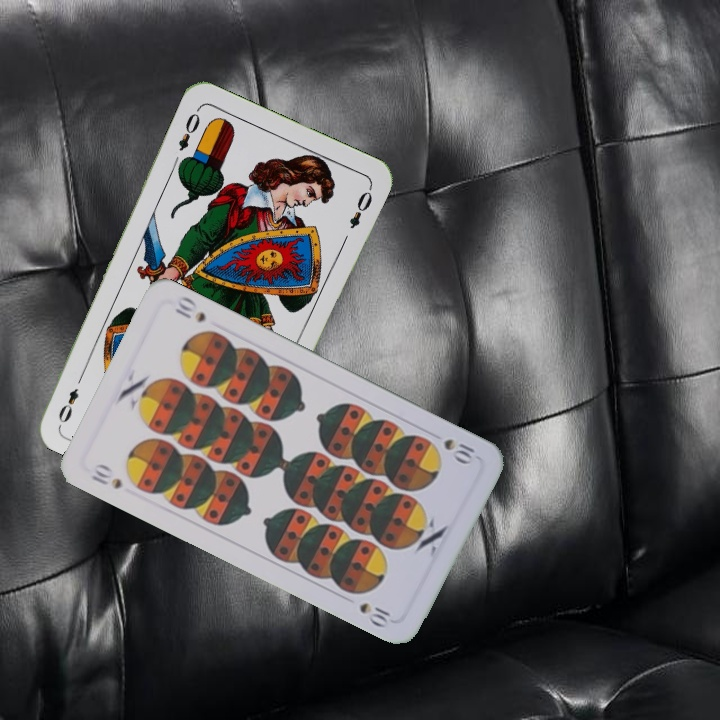EO: (174, 104, 203, 154)
S10: (86, 459, 125, 492), (439, 434, 480, 465)
